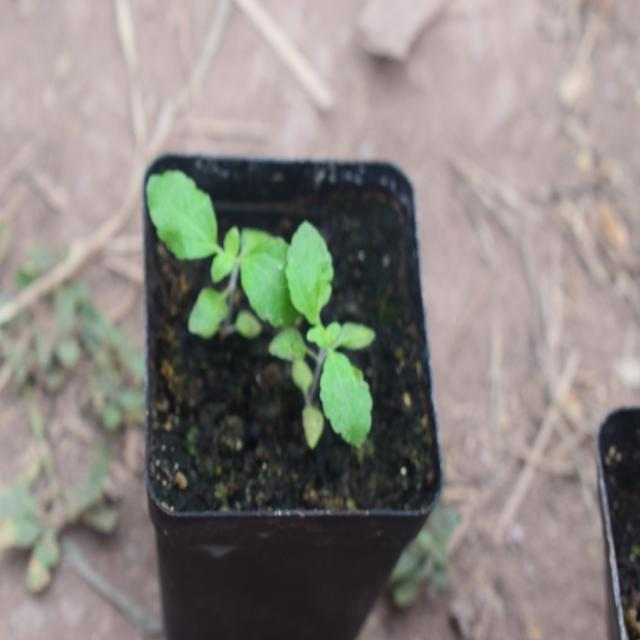billygoat_weed: (145, 165, 325, 356), (274, 213, 390, 460)
